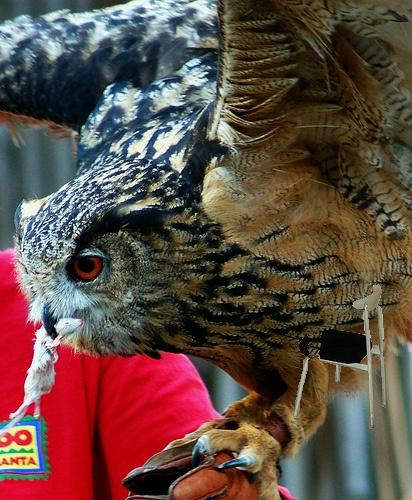tampered: (294, 286, 386, 429)
